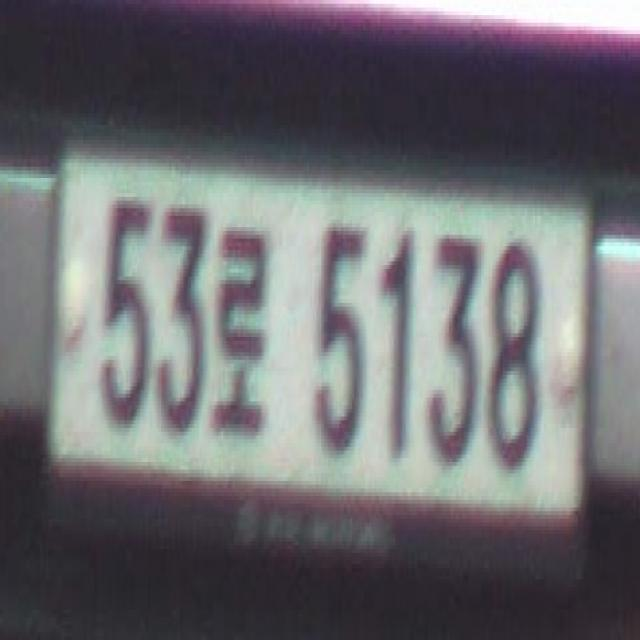1: (370, 201, 422, 488)
3: (153, 182, 210, 454), (433, 205, 484, 492)
5: (95, 170, 158, 443), (310, 208, 370, 485)
8: (482, 205, 548, 492)
license_plate: (45, 129, 596, 564)
lo: (212, 208, 272, 447)
